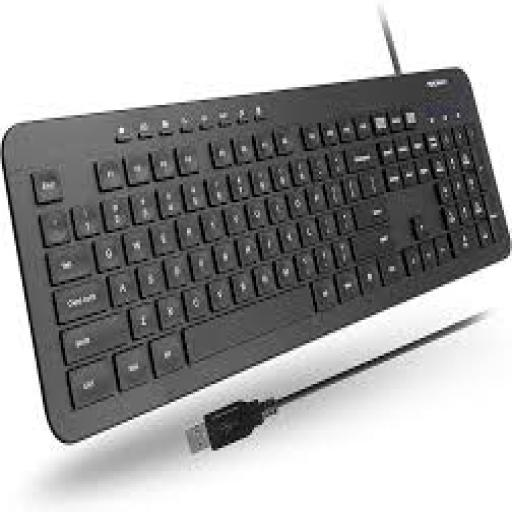keyboard: (2, 69, 510, 440)
